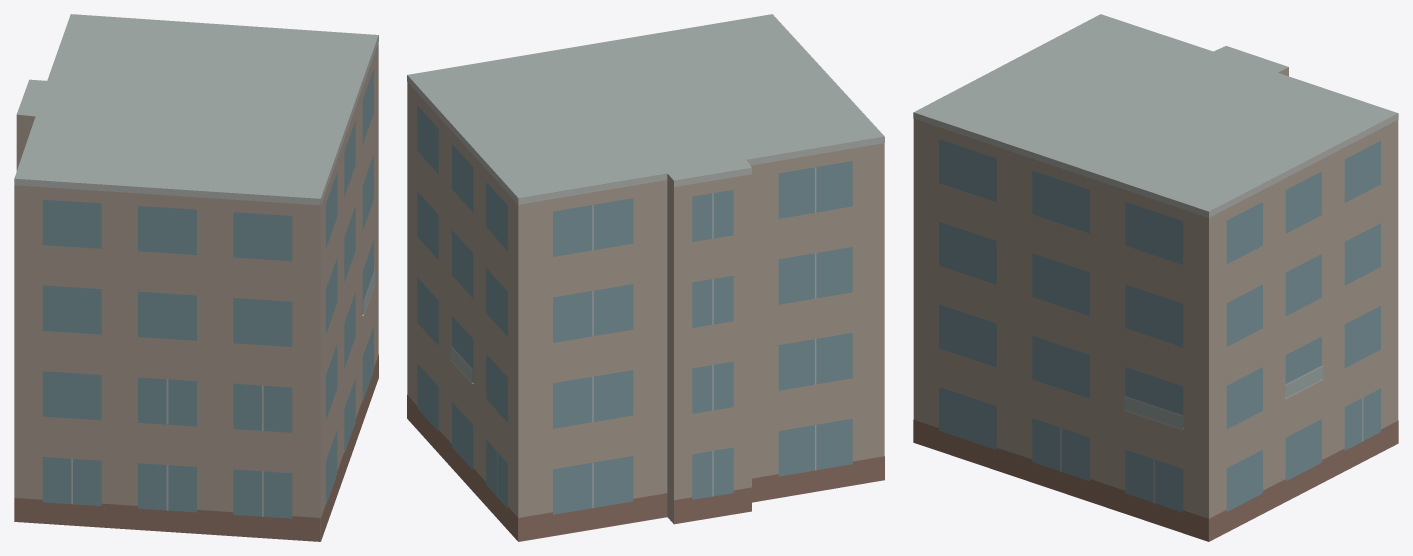
Rendered from survey-upis-32705499.glb.
3 views of the same model, side by side, from view 1: azimuth 30°, elevation 25°; view 2: azimuth 150°, elevation 25°; view 3: azimuth 270°, elevation 25° (orthographic). The views are drawn at different scales.
Visible parts, largest first — view 1: survey-upis-32705499.tmp; view 2: survey-upis-32705499.tmp; view 3: survey-upis-32705499.tmp.
Part boxes in pixels (left/top/right/bottom): survey-upis-32705499.tmp: left=14, top=14, right=378, bottom=541; survey-upis-32705499.tmp: left=407, top=14, right=884, bottom=541; survey-upis-32705499.tmp: left=913, top=14, right=1398, bottom=541.
Bounding box in the file's own units: 16.37 × 12.75 × 16.97.
